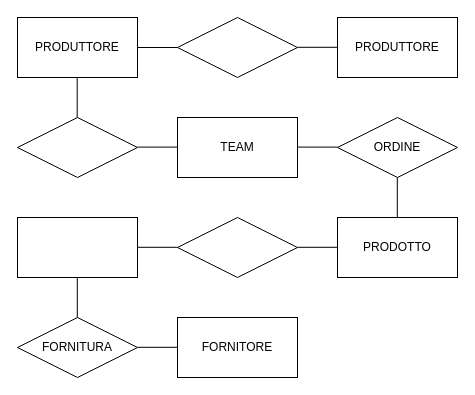
Some shapes in this 475 by 395 pixel diagram are drawn without their labels. The shapes that lost their labels are listed below. From the top down, each one's centre as x and y in pixels, then its label:
the point at 237,47: LAVORO
the point at 77,147: PARTE DI
the point at 77,247: MATERIALE
the point at 237,247: COMPOSTO DA
